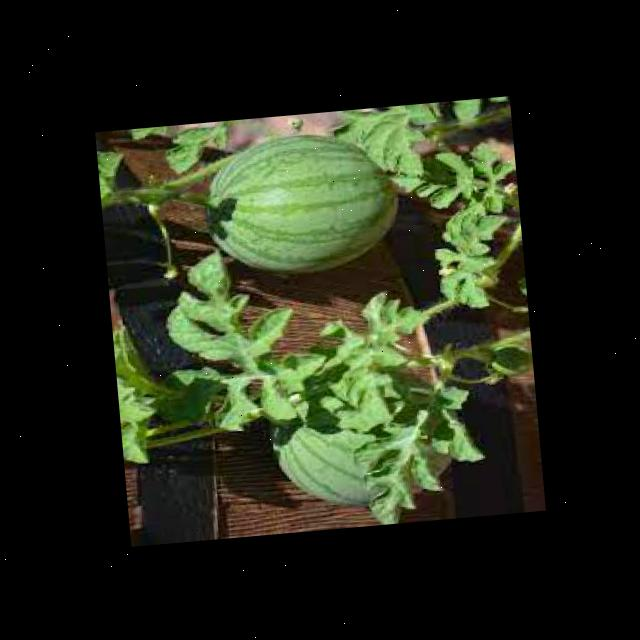watermelon: (199, 125, 405, 281), (273, 416, 389, 510)
